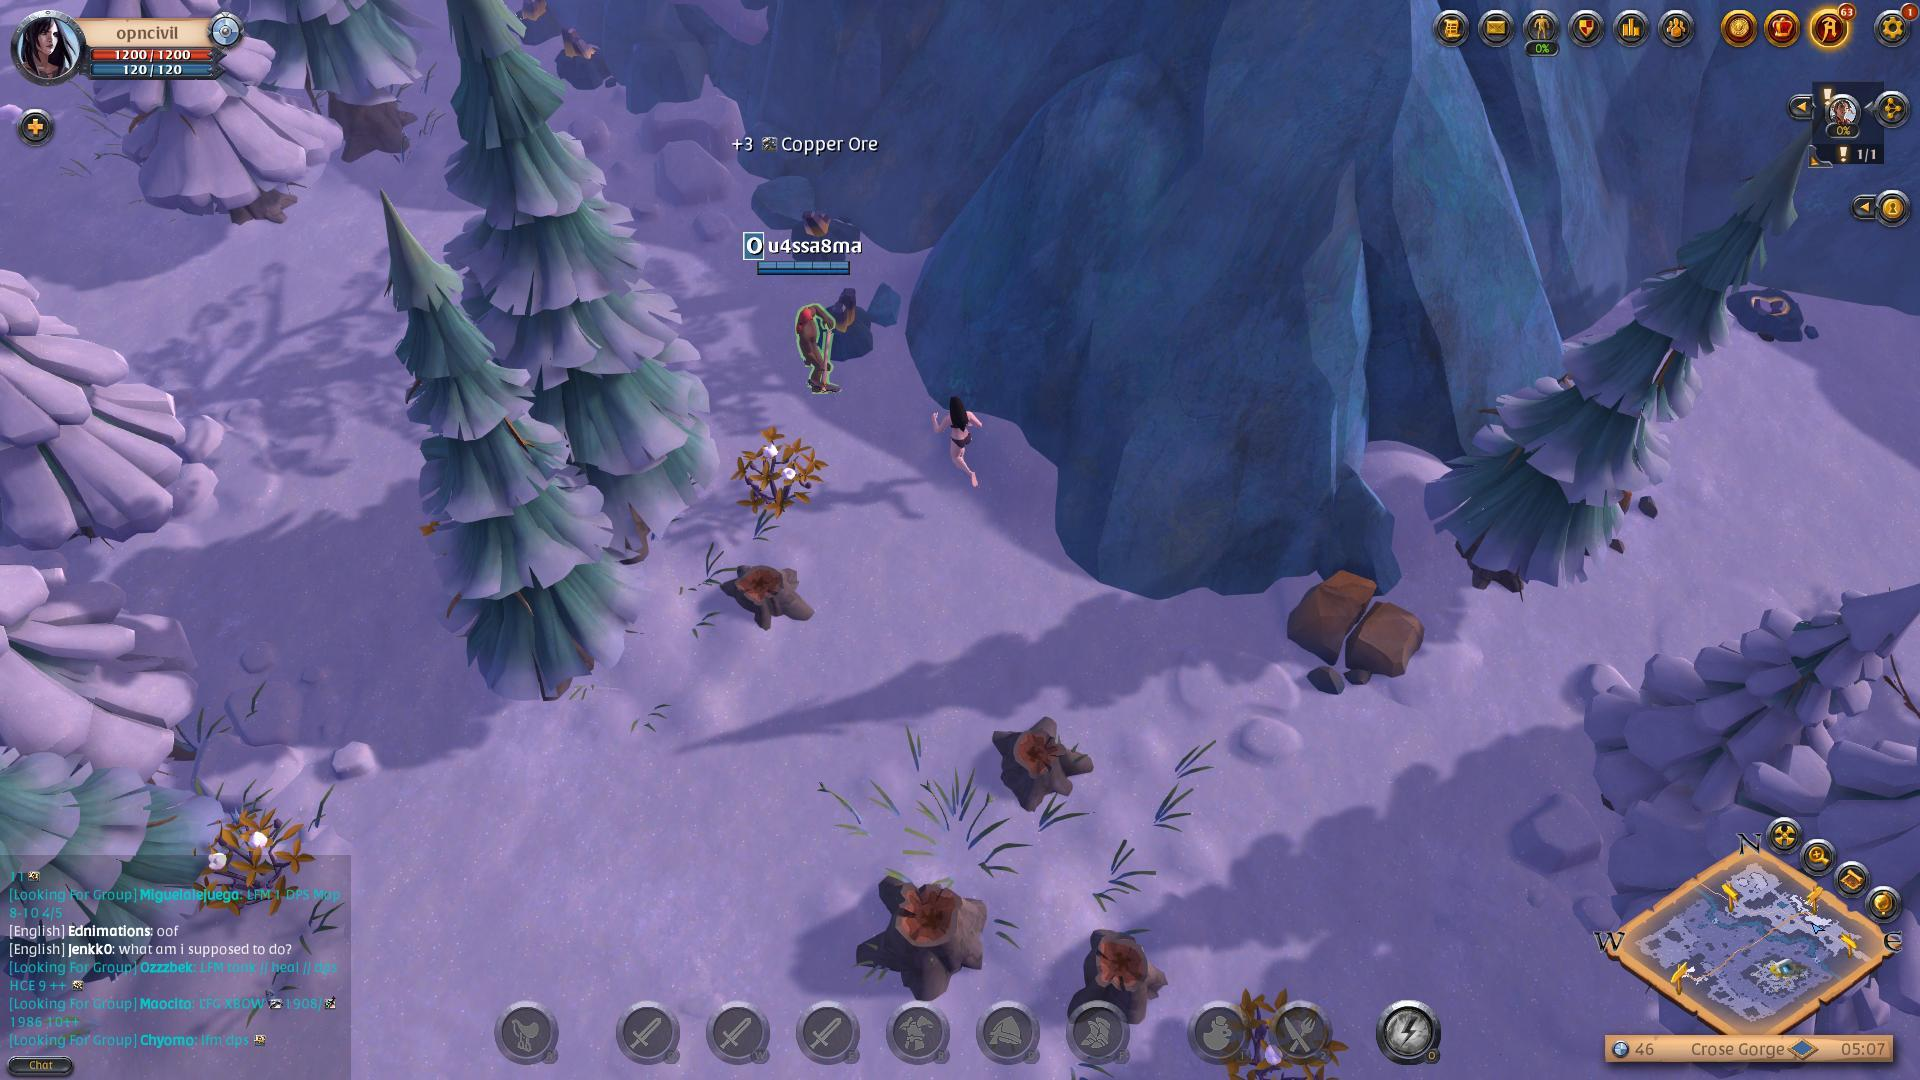copper_ore: (555, 18, 612, 96)
cotton: (194, 811, 332, 898), (723, 423, 839, 508)
limestone: (1273, 579, 1441, 692)
